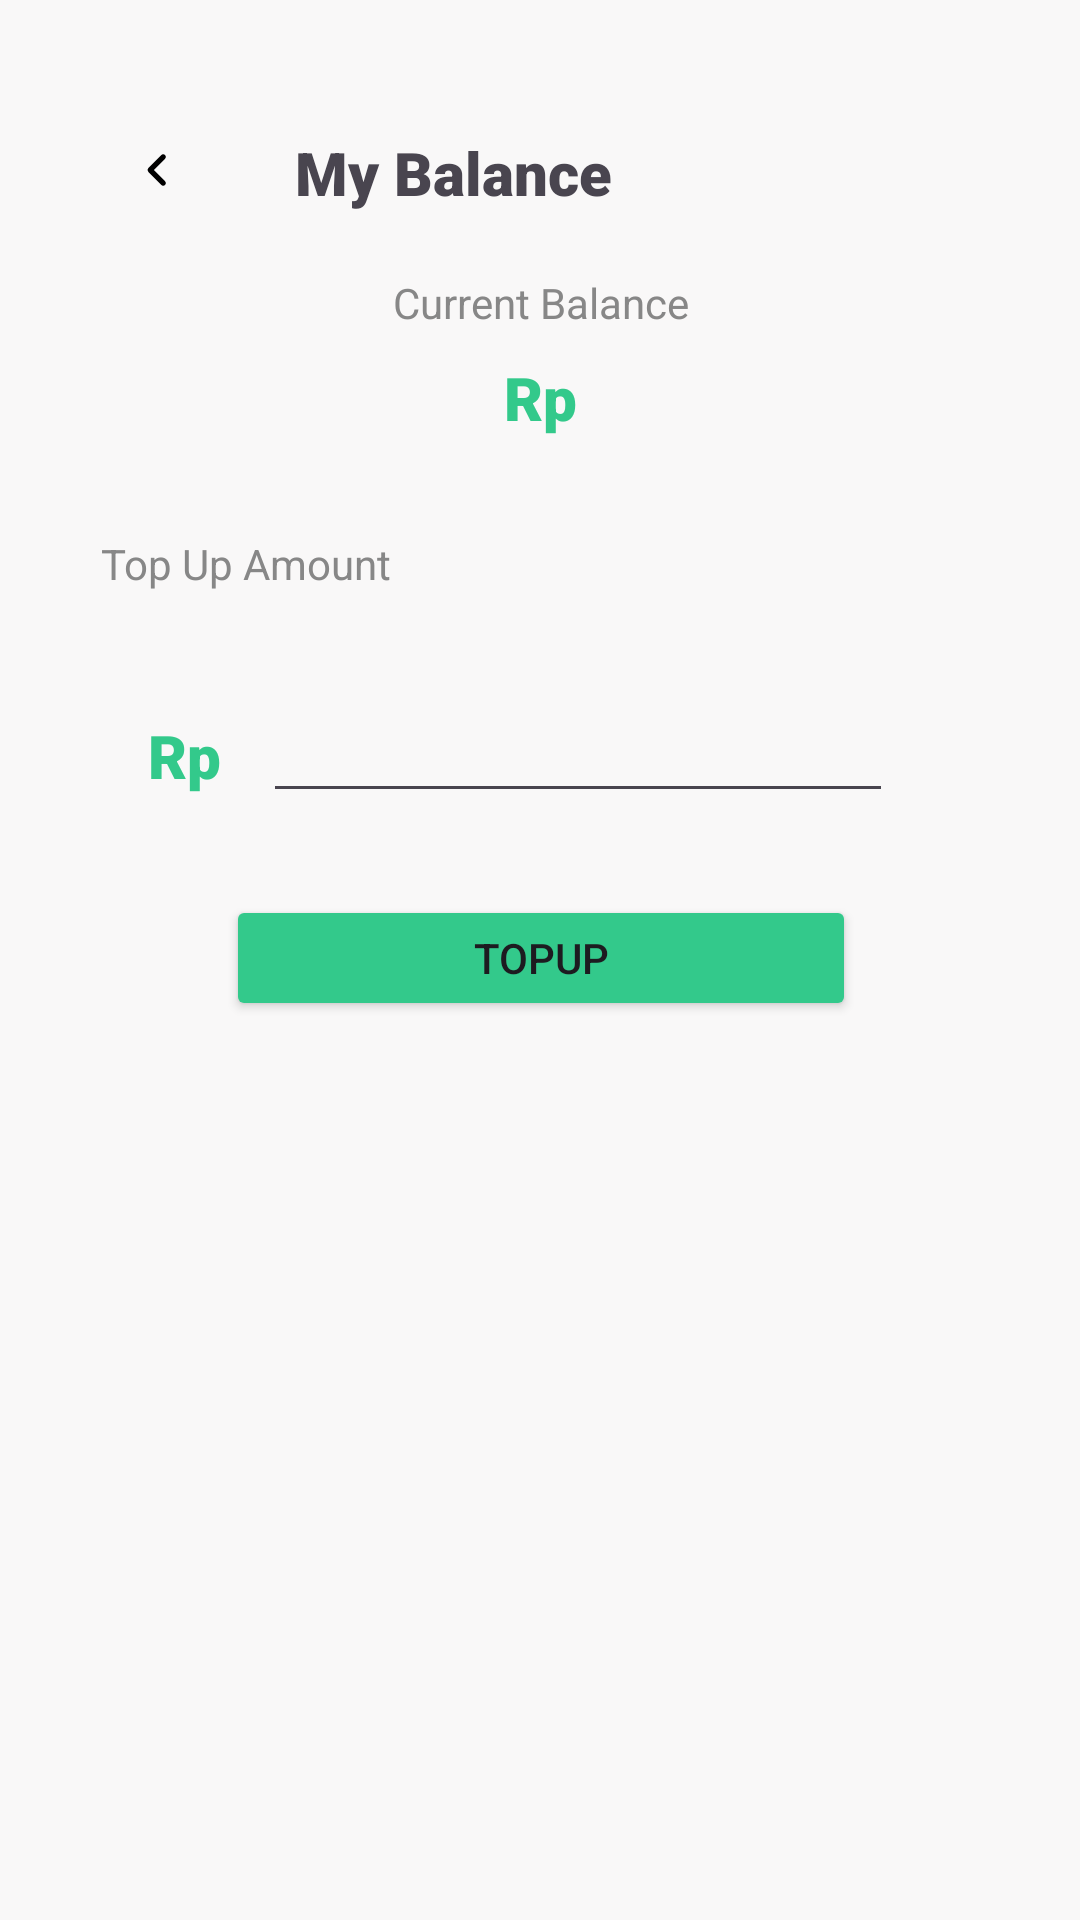

Screen size 1080px×1920px. Icon name, then its center in pixels as point (x, y):
angle left: point (156, 170)
